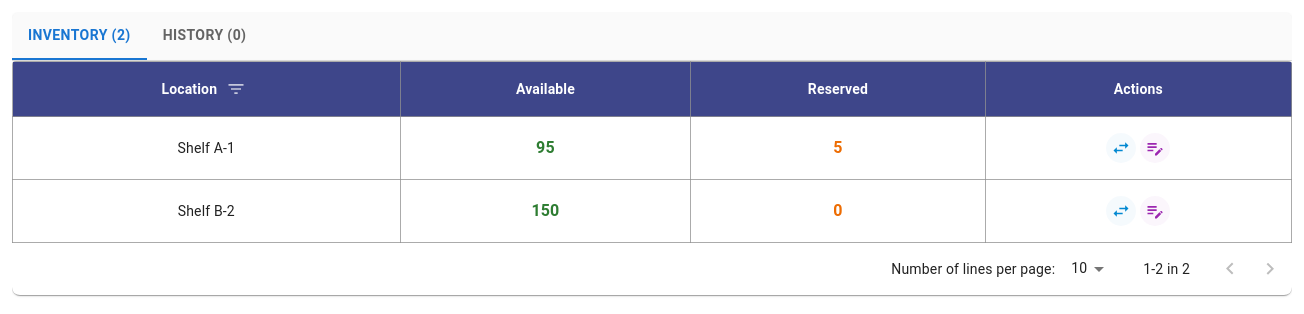
Test case: BatchTabsSection - Comprehensive Tests › History Tab › shows empty state when no movements
Click the tab "History (0)". click: (205,36)
box: x1=147 y1=12 x2=262 y2=60
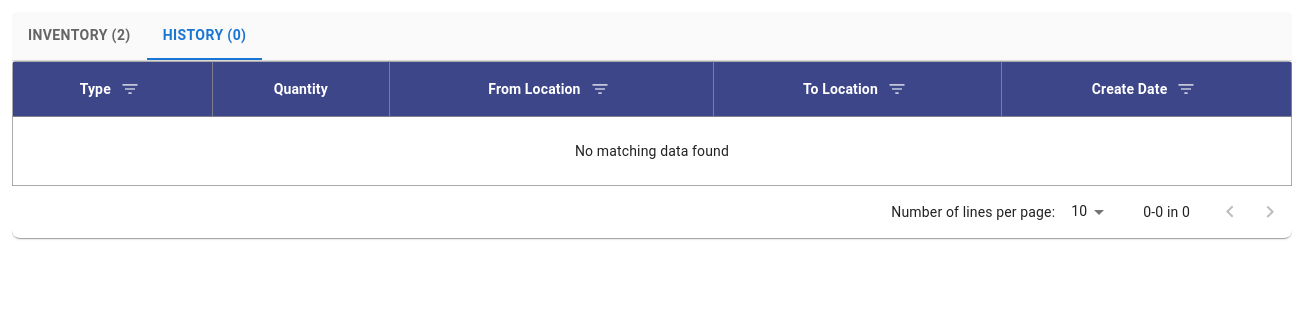
Expected: the text "No matching data found" is shown, x1=12 y1=116 x2=1292 y2=186
